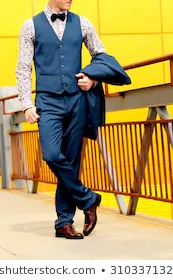F_dress pants: (34, 88, 89, 216)
F_shirt: (11, 7, 110, 110)
